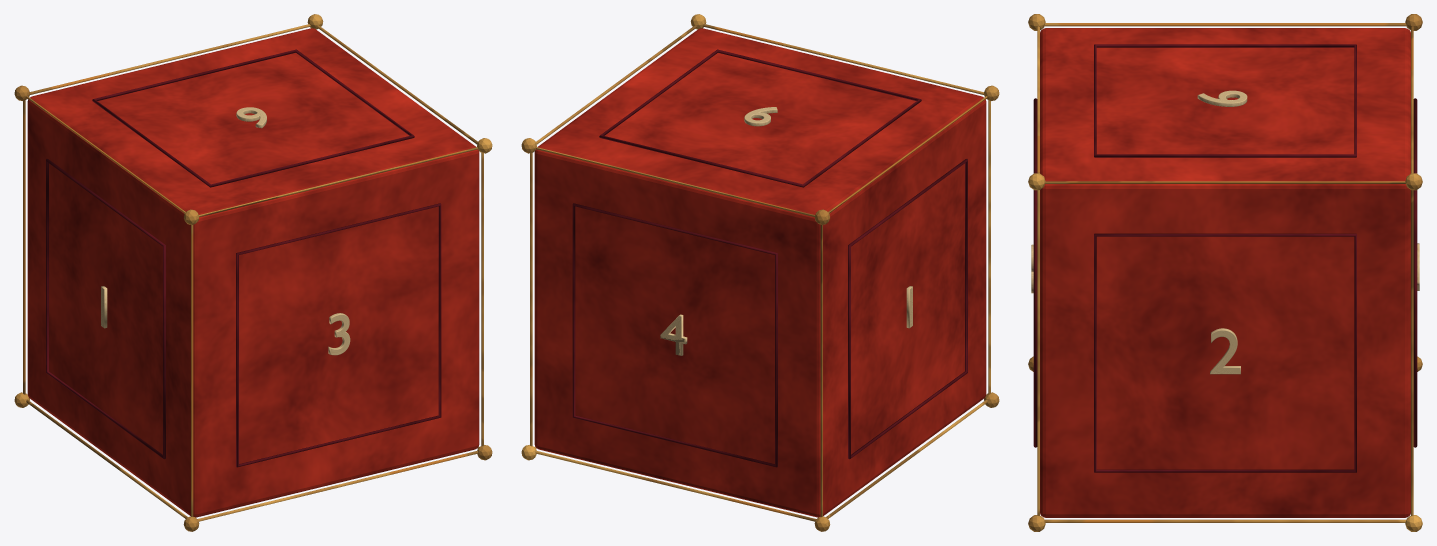
File: D6_六面骰_朱砂鎏金_baked.glb
3 renders of one model, left to right at view 1: azimuth 30°, elevation 25°; view 2: azimuth 150°, elevation 25°; view 3: azimuth 270°, elevation 25°, orthographic. The views are drawn at different scales.
Visible parts, largest first — view 1: D6_Body_6_Faces, D6_Occult_Face_Borders, D6_Aged_Bronze_Edges, D6_Vertex_Studs, D6_Face_03_3; view 2: D6_Body_6_Faces, D6_Occult_Face_Borders, D6_Aged_Bronze_Edges, D6_Vertex_Studs, D6_Face_04_4; view 3: D6_Body_6_Faces, D6_Occult_Face_Borders, D6_Aged_Bronze_Edges, D6_Vertex_Studs, D6_Face_02_2, D6_Face_06_6.
Boxes of the visible parts, x1,y1,x2,y2 form: D6_Body_6_Faces: (27,28,479,517); D6_Occult_Face_Borders: (46,49,441,467); D6_Aged_Bronze_Edges: (23,24,483,521); D6_Vertex_Studs: (14,14,492,531); D6_Face_03_3: (328,313,350,355); D6_Body_6_Faces: (534,28,986,517); D6_Occult_Face_Borders: (572,49,967,467); D6_Aged_Bronze_Edges: (530,24,990,521); D6_Vertex_Studs: (521,14,999,531); D6_Face_04_4: (660,314,687,355); D6_Body_6_Faces: (1040,28,1410,517); D6_Occult_Face_Borders: (1033,44,1417,472); D6_Aged_Bronze_Edges: (1037,23,1413,522); D6_Vertex_Studs: (1028,14,1422,531); D6_Face_02_2: (1210,328,1240,374); D6_Face_06_6: (1197,90,1247,106).
Bounding box in the file's own units: 2.45 × 2.45 × 2.45.
10 materials, 10 textured.
